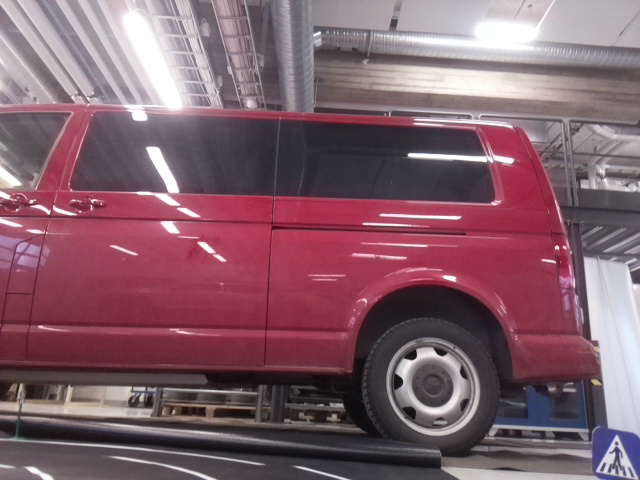Crosswalk: (591, 424, 639, 479)
